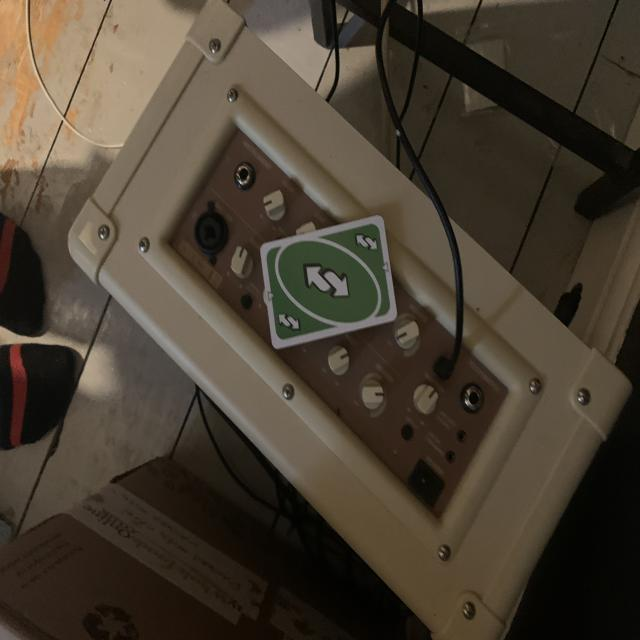lgreenrevers-20: (354, 227, 380, 256)
